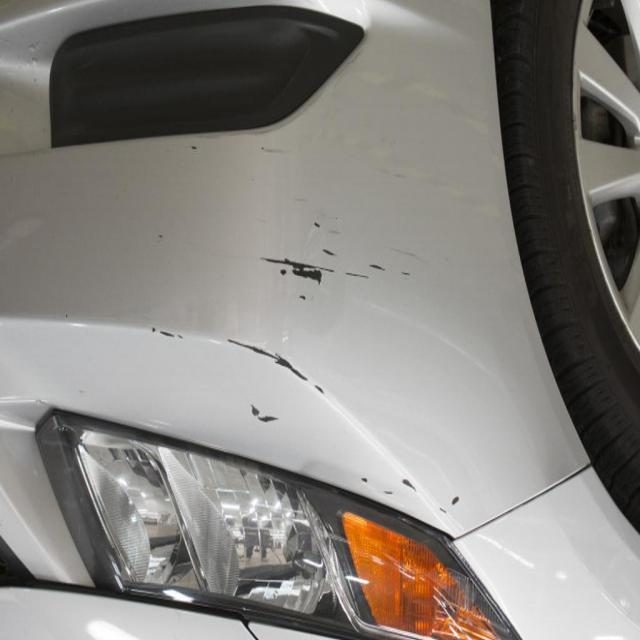scratch: (163, 201, 459, 534)
